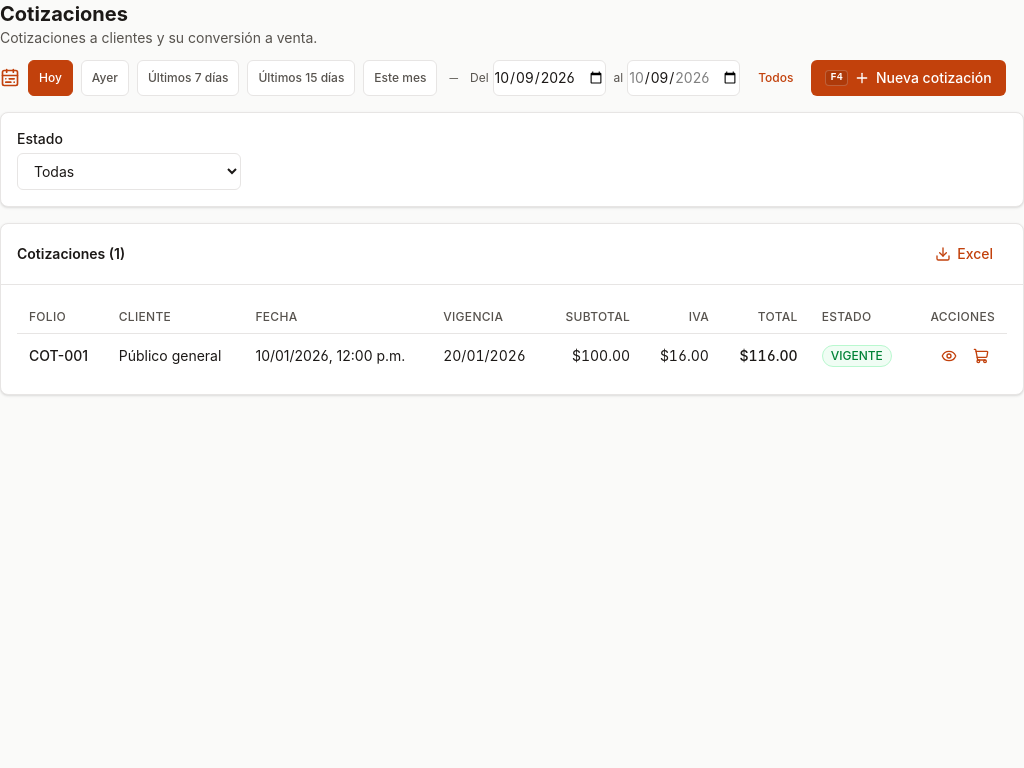
Test: CotizacionesPage › muestra la foto de evidencia en el detalle cuando existe
The image size is (1024, 768).
Click the button named "Ver detalles" at (949, 356), box [935,342,963,370]
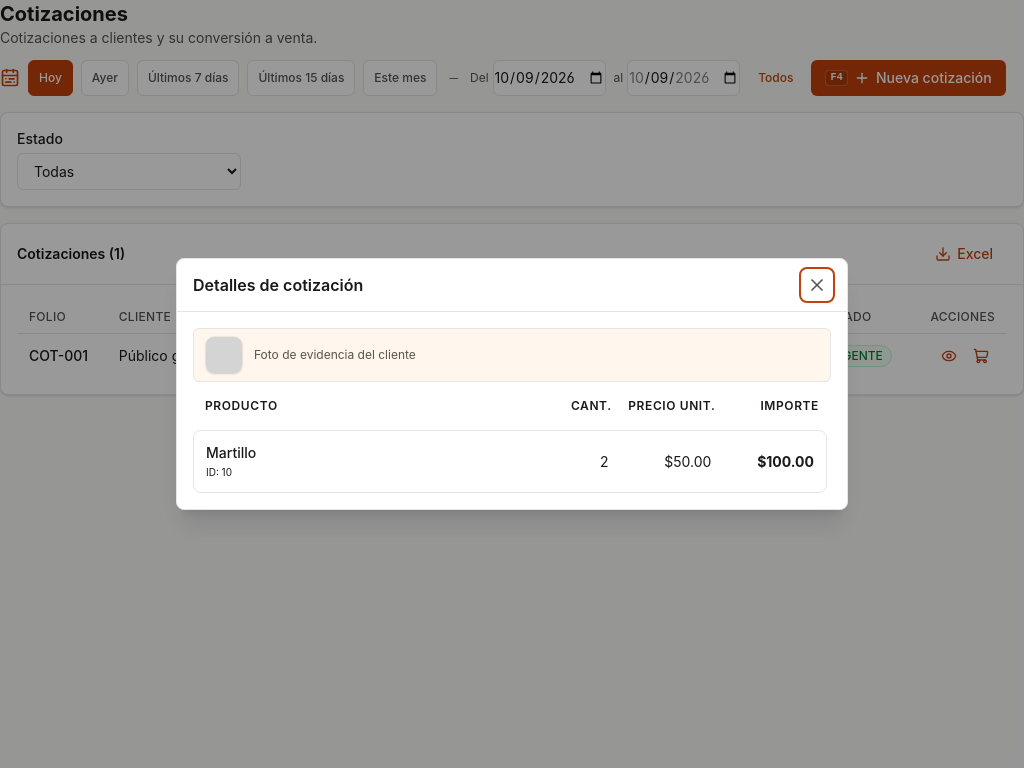
Expected: the heading "Detalles de cotización" is shown, [193,273,363,297]
